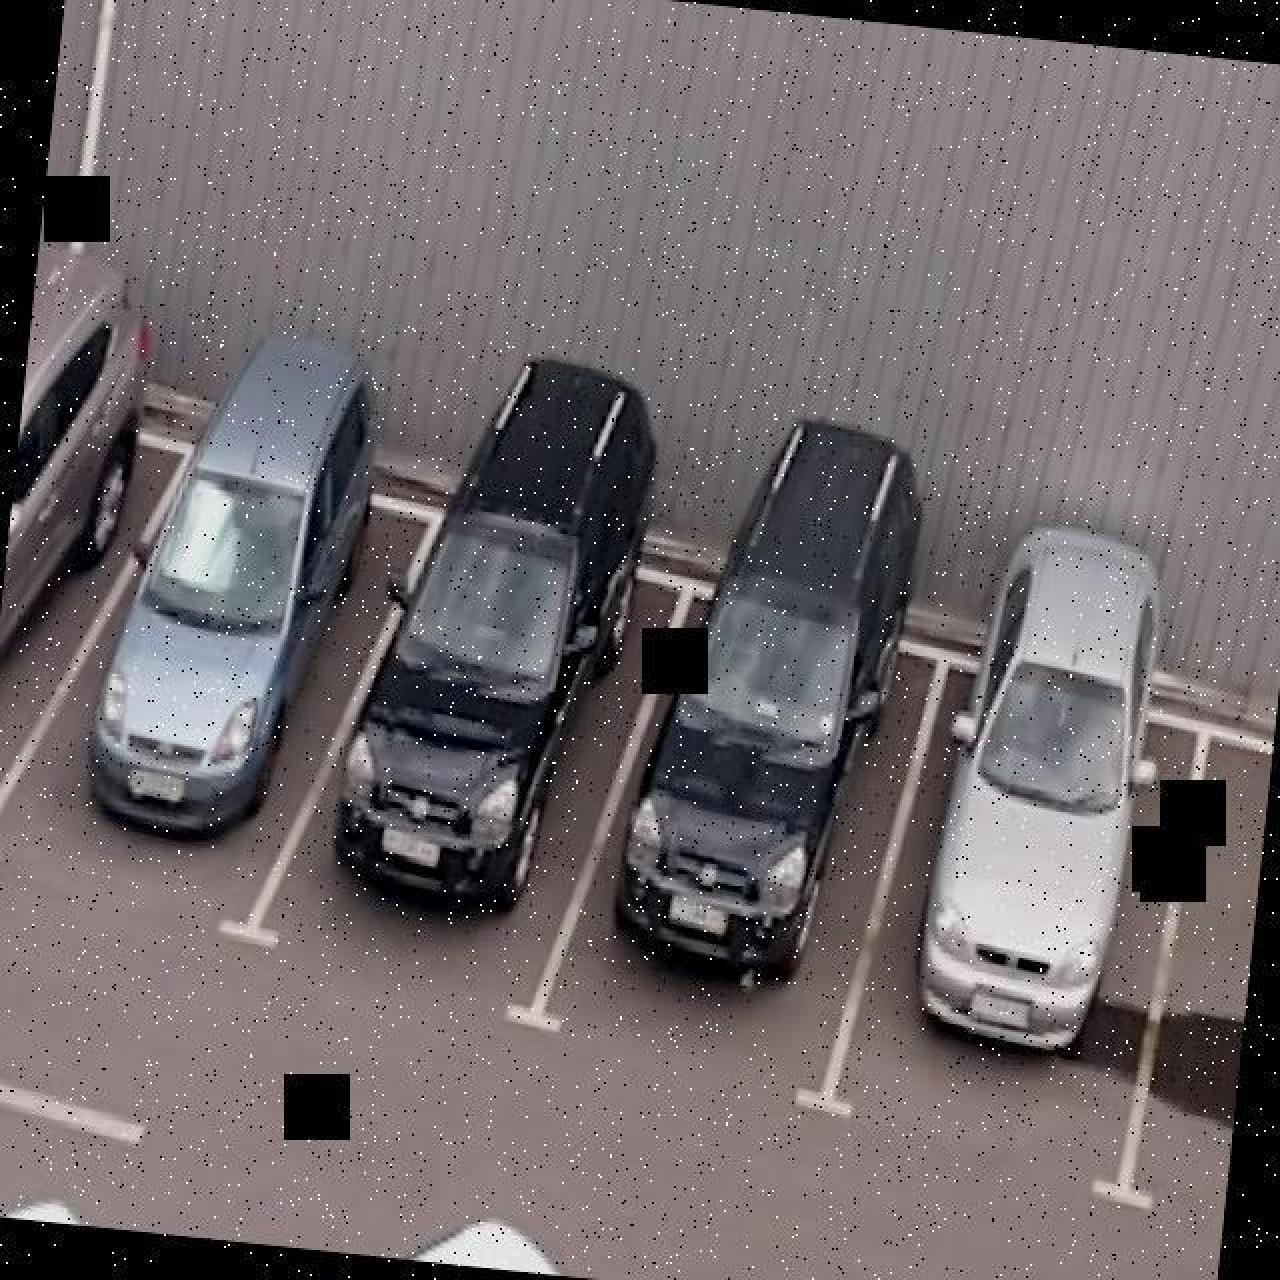occupied: (235, 502, 710, 1037), (516, 575, 957, 1116), (810, 642, 1215, 1207)
